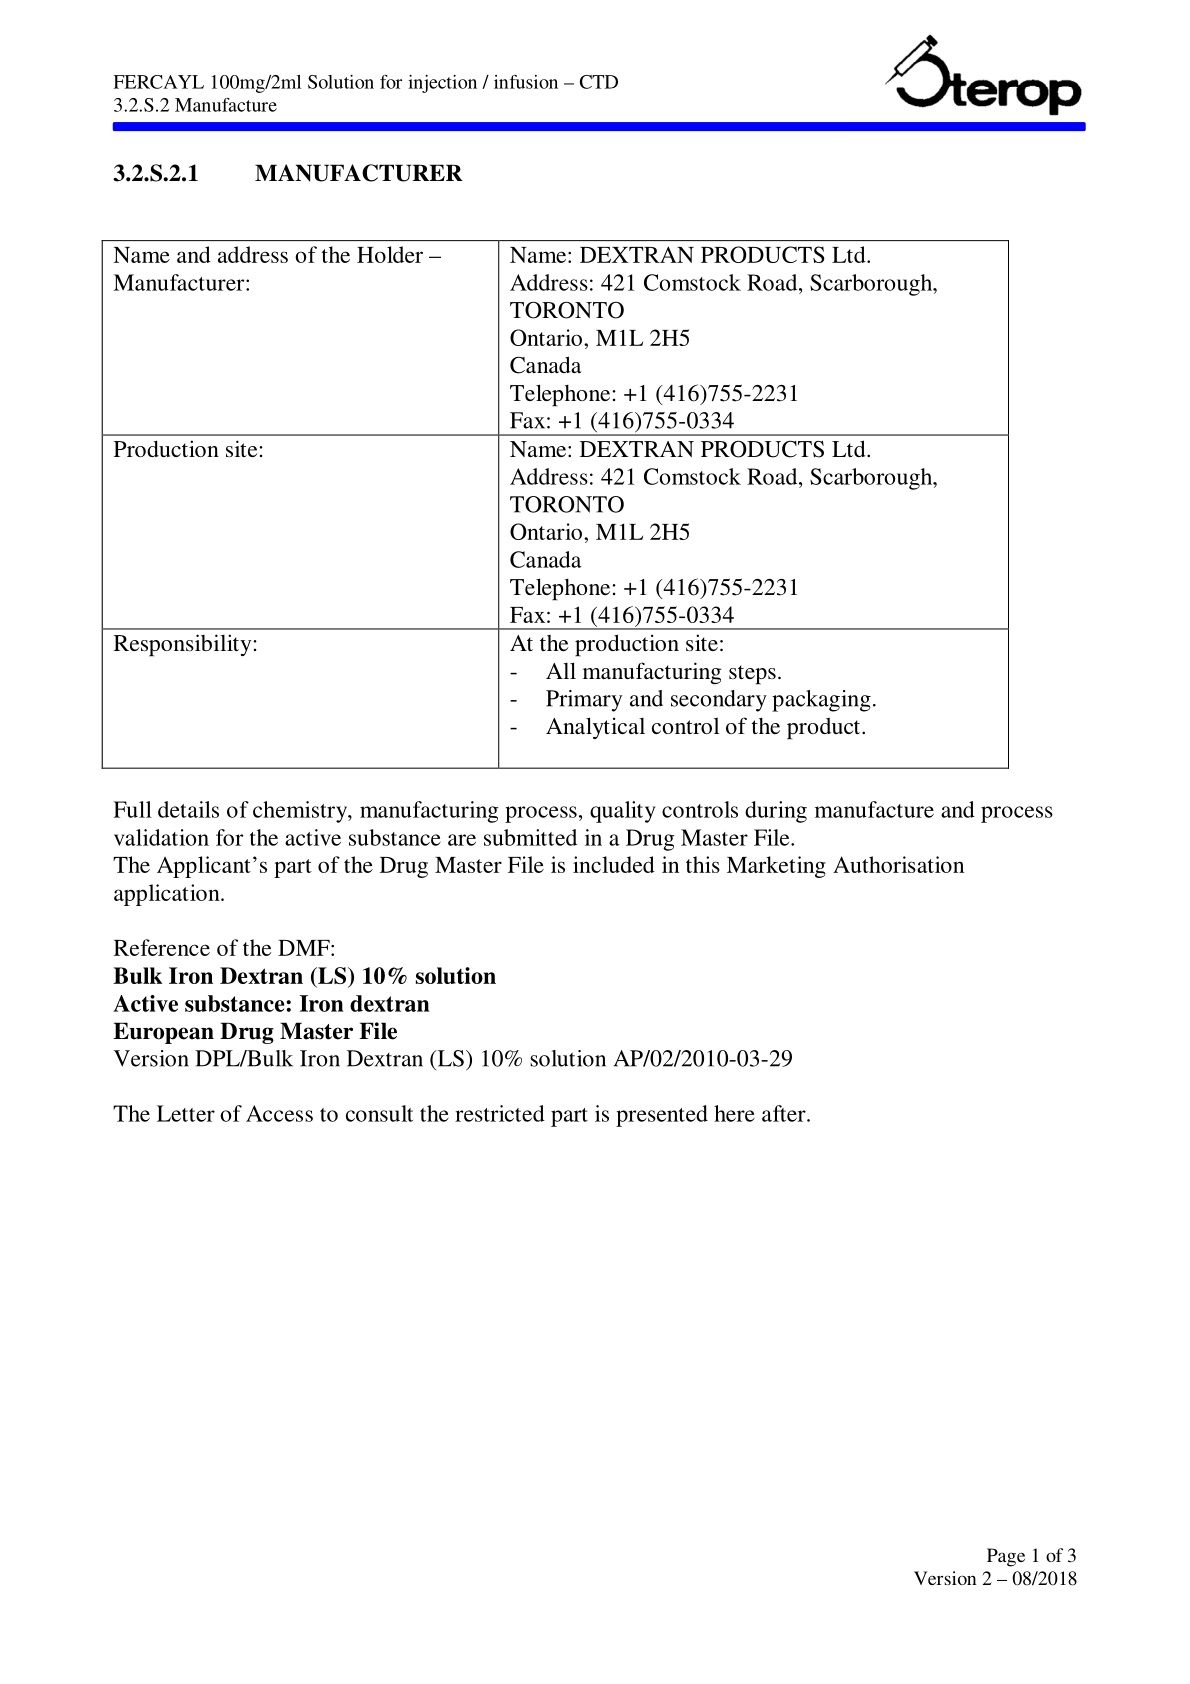full_lined: (104, 243, 1008, 766)
